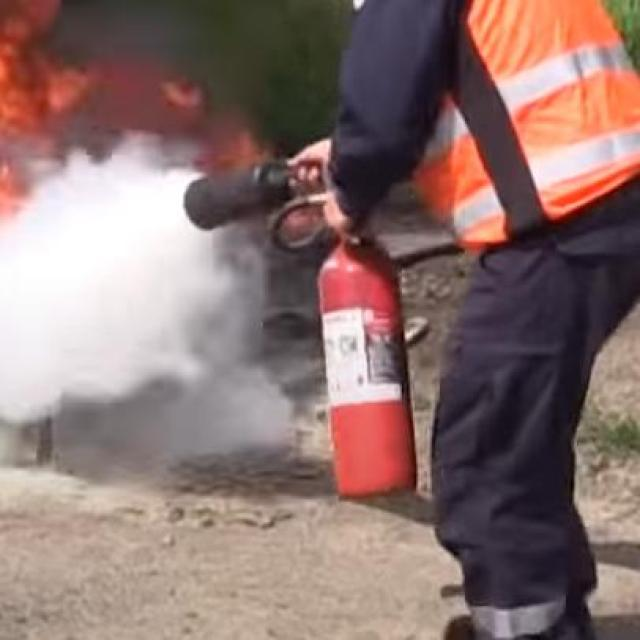fire_extinguisher: (177, 143, 431, 506)
